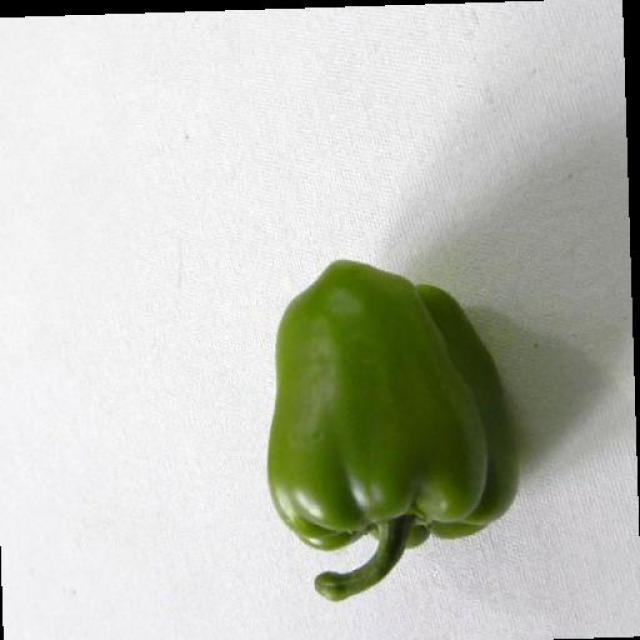Fresh_Capsicum: (252, 260, 520, 573)
